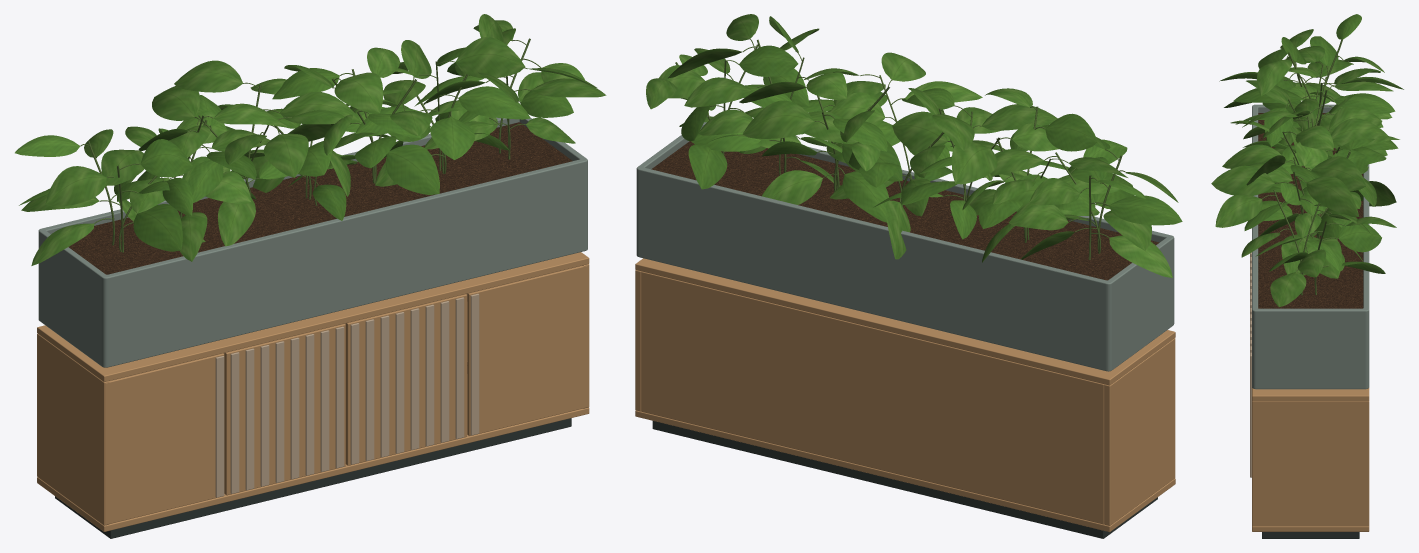
The model's file is botanicalDivider-12.glb.
3 views of the same model, side by side, from view 1: azimuth 30°, elevation 25°; view 2: azimuth 150°, elevation 25°; view 3: azimuth 270°, elevation 25° (orthographic). The views are drawn at different scales.
Visible parts, largest first — view 1: Planter_pothos_leaves, Planter_oiled_oak, StoragePlanter_Door (×4), StoragePlanter_Batten (×18), Planter_loose_soil, StoragePlanter_Side, StoragePlanter_Top, StoragePlanter_Plinth, StoragePlanter_Bottom, Planter_pothos_stems; view 2: StoragePlanter_Back, Planter_pothos_leaves, Planter_oiled_oak, Planter_loose_soil, StoragePlanter_Side (×2), StoragePlanter_Top, StoragePlanter_Plinth, StoragePlanter_Bottom, Planter_pothos_stems; view 3: Planter_pothos_leaves, StoragePlanter_Side, Planter_oiled_oak, Planter_loose_soil, Planter_pothos_stems, StoragePlanter_Top, StoragePlanter_Bottom, StoragePlanter_Plinth, StoragePlanter_Batten.
Part boxes in pixels (x1=…): Planter_pothos_leaves: x1=15, y1=14, x2=606, y2=265; Planter_oiled_oak: x1=38, y1=117, x2=587, y2=367; StoragePlanter_Door (×4): x1=105, y1=265, x2=588, y2=524; StoragePlanter_Batten (×18): x1=215, y1=293, x2=479, y2=497; Planter_loose_soil: x1=68, y1=122, x2=572, y2=274; StoragePlanter_Side: x1=37, y1=333, x2=109, y2=525; StoragePlanter_Top: x1=37, y1=252, x2=589, y2=382; StoragePlanter_Plinth: x1=55, y1=418, x2=571, y2=538; StoragePlanter_Bottom: x1=37, y1=374, x2=589, y2=531; Planter_pothos_stems: x1=80, y1=38, x2=541, y2=252; StoragePlanter_Back: x1=641, y1=271, x2=1104, y2=524; Planter_pothos_leaves: x1=646, y1=14, x2=1182, y2=277; Planter_oiled_oak: x1=636, y1=122, x2=1174, y2=371; Planter_loose_soil: x1=651, y1=141, x2=1159, y2=280; StoragePlanter_Side (×2): x1=635, y1=270, x2=1175, y2=525; StoragePlanter_Top: x1=635, y1=258, x2=1175, y2=385; StoragePlanter_Plinth: x1=652, y1=421, x2=1157, y2=538; StoragePlanter_Bottom: x1=635, y1=410, x2=1175, y2=532; Planter_pothos_stems: x1=675, y1=39, x2=1125, y2=259; Planter_pothos_leaves: x1=1211, y1=14, x2=1403, y2=307; StoragePlanter_Side: x1=1252, y1=401, x2=1369, y2=526; Planter_oiled_oak: x1=1252, y1=104, x2=1369, y2=389; Planter_loose_soil: x1=1258, y1=113, x2=1363, y2=308; Planter_pothos_stems: x1=1262, y1=39, x2=1350, y2=295; StoragePlanter_Top: x1=1252, y1=387, x2=1369, y2=401; StoragePlanter_Bottom: x1=1252, y1=526, x2=1369, y2=531; StoragePlanter_Plinth: x1=1262, y1=532, x2=1359, y2=538; StoragePlanter_Batten: x1=1250, y1=352, x2=1251, y2=477.
Bounding box in the file's own units: 2.26 × 1.58 × 0.7924.
10 materials, 2 textured.
